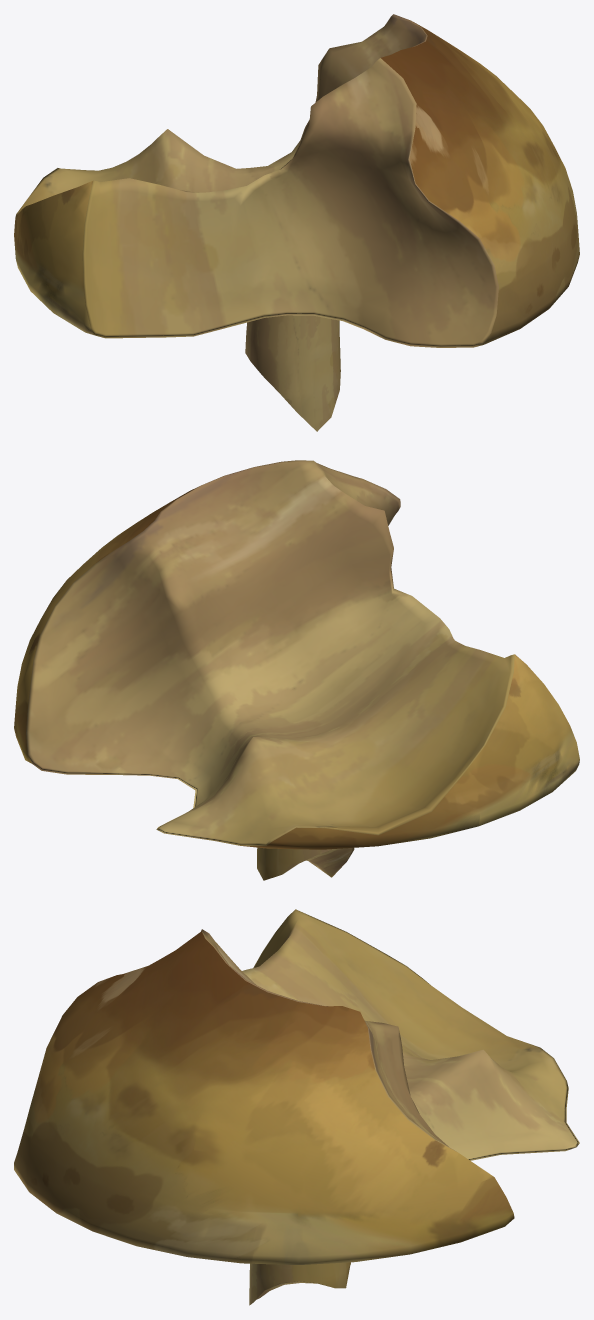
The model's file is GlowshroomAVisuals_Munch1.fbx.
3 views of the same model, one above another, from view 1: azimuth 30°, elevation 25°; view 2: azimuth 150°, elevation 25°; view 3: azimuth 270°, elevation 25° (orthographic). The views are drawn at different scales.
Parts seen in each view (by area): view 1: GlowshroomACap.003, GlowshroomAStalk.004; view 2: GlowshroomACap.003, GlowshroomAStalk.004; view 3: GlowshroomACap.003, GlowshroomAStalk.004.
Part boxes in pixels (bbox=[...]): GlowshroomACap.003: bbox=[14, 14, 579, 347]; GlowshroomAStalk.004: bbox=[245, 315, 340, 431]; GlowshroomACap.003: bbox=[14, 460, 579, 849]; GlowshroomAStalk.004: bbox=[257, 847, 354, 880]; GlowshroomACap.003: bbox=[14, 909, 579, 1264]; GlowshroomAStalk.004: bbox=[249, 1262, 350, 1305].
Bounding box in the file's own units: 0.5363 × 0.3974 × 0.5162.
